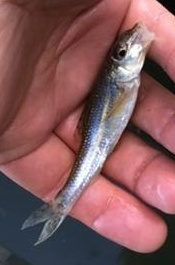Gobio gobio: (20, 20, 155, 245)
